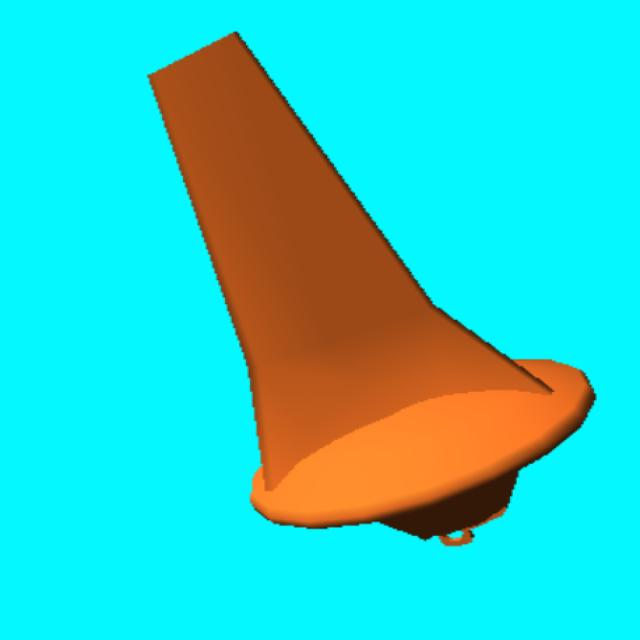OrangeBuoy: (150, 34, 593, 538)
